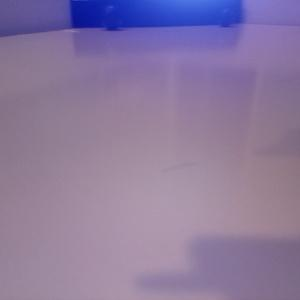dead_ball: (102, 5, 121, 29), (217, 8, 235, 26)
